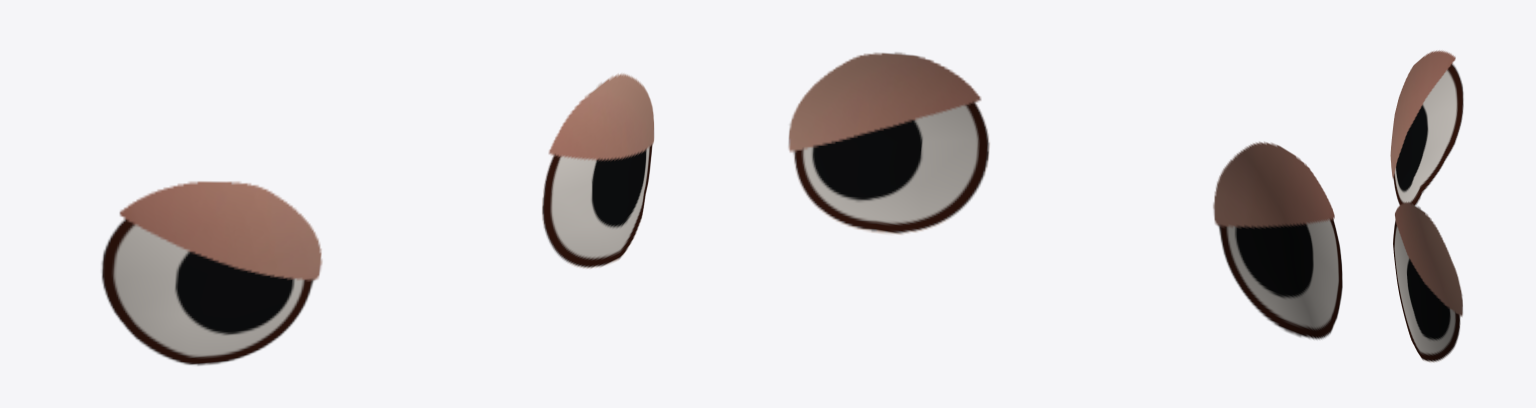
File: eye 01.glb
3 views of the same model, side by side, from view 1: azimuth 30°, elevation 25°; view 2: azimuth 150°, elevation 25°; view 3: azimuth 270°, elevation 25° (orthographic). The views are drawn at different scales.
Parts seen in each view (by area): view 1: Eye_1; view 2: Eye_1; view 3: Eye_1.
Boxes of the visible parts, x1=… form: Eye_1: x1=101, y1=73, x2=654, y2=365; Eye_1: x1=788, y1=52, x2=1342, y2=339; Eye_1: x1=1390, y1=50, x2=1463, y2=362.
Size of the model in its own units: 0.00677 by 0.00271 by 0.00151.
Materials: 1 (1 with a texture image).
